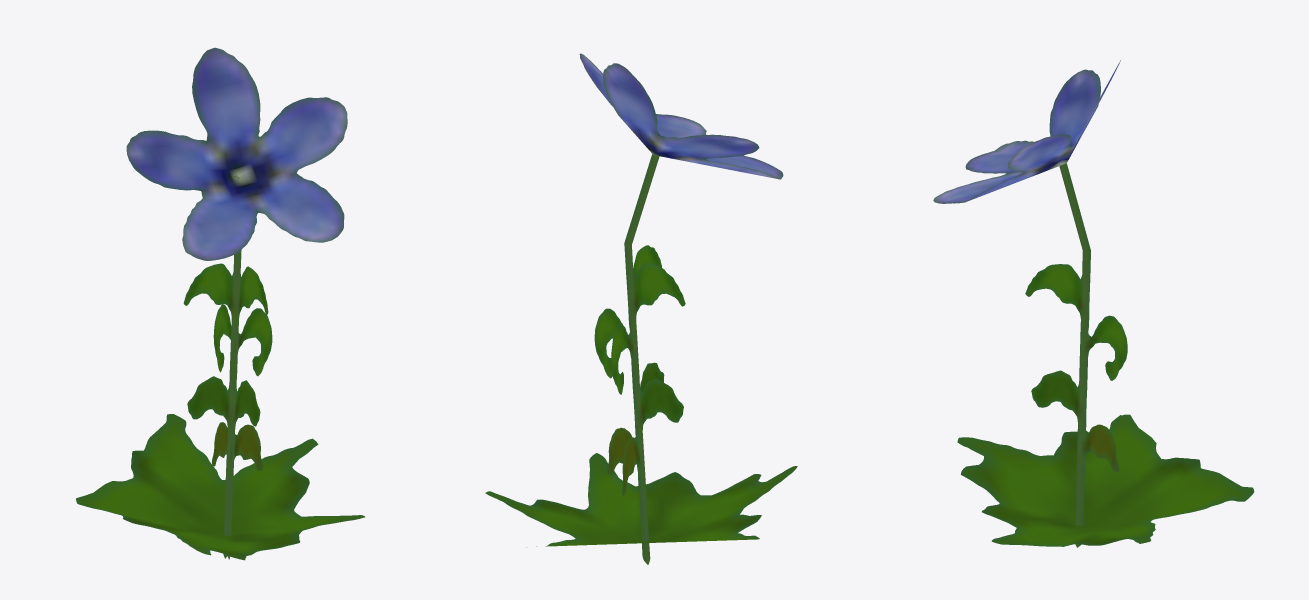
Rendered from sc_gg_grass09_um.fbx.
3 views of the same model, side by side, from view 1: azimuth 30°, elevation 25°; view 2: azimuth 150°, elevation 25°; view 3: azimuth 270°, elevation 25° (orthographic). The views are drawn at different scales.
Visible parts, largest first — view 1: gg_grass09; view 2: gg_grass09; view 3: gg_grass09.
Part boxes in pixels (x1=…): gg_grass09: x1=76, y1=47, x2=364, y2=560; gg_grass09: x1=485, y1=53, x2=797, y2=564; gg_grass09: x1=933, y1=60, x2=1254, y2=547.
Size of the model in its own units: 17.82 by 23.4 by 17.84.
